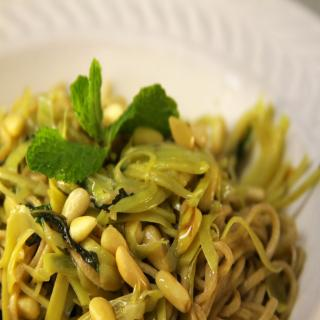Pasta: (0, 56, 305, 320)
